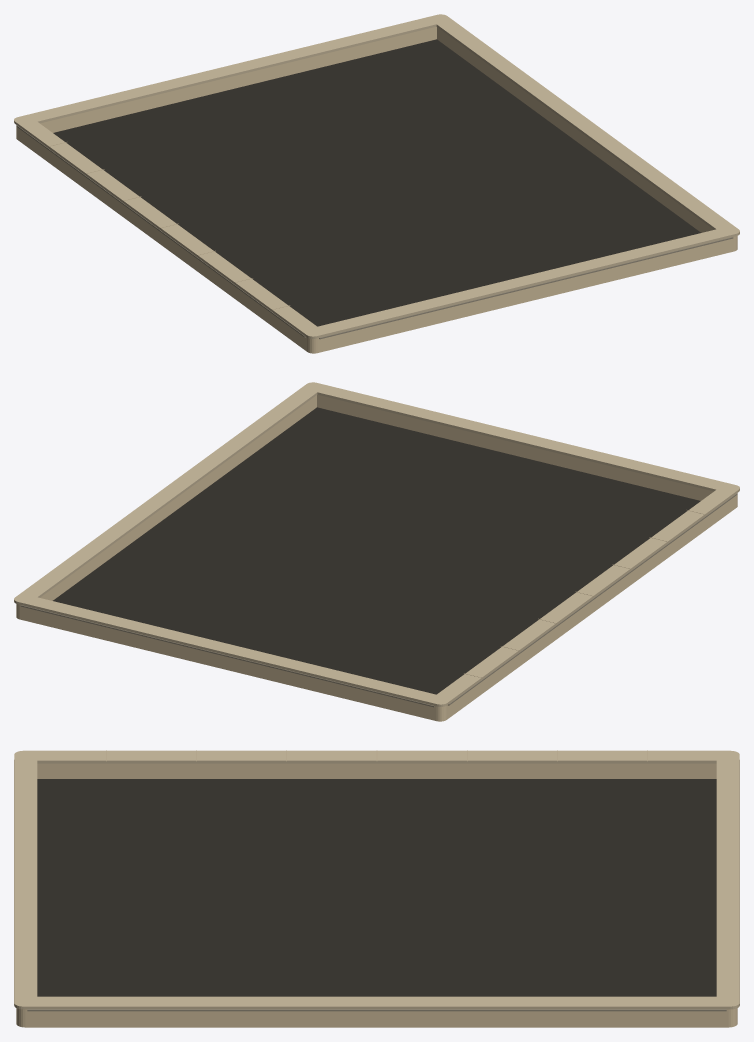
Rendered from SM_Homes_H02_Roof.fbx.
The picture shows the model from 3 angles, top to bottom: view 1: azimuth 30°, elevation 25°; view 2: azimuth 150°, elevation 25°; view 3: azimuth 270°, elevation 25°; orthographic projection. The views are drawn at different scales.
Parts seen in each view (by area): view 1: SM_Homes_H02_Roof; view 2: SM_Homes_H02_Roof; view 3: SM_Homes_H02_Roof.
Part boxes in pixels (x1,y1,x2,y2): SM_Homes_H02_Roof: [14, 14, 739, 353]; SM_Homes_H02_Roof: [14, 382, 739, 721]; SM_Homes_H02_Roof: [14, 750, 739, 1027].
Size of the model in its own units: 7.56 by 9.06 by 0.344.
